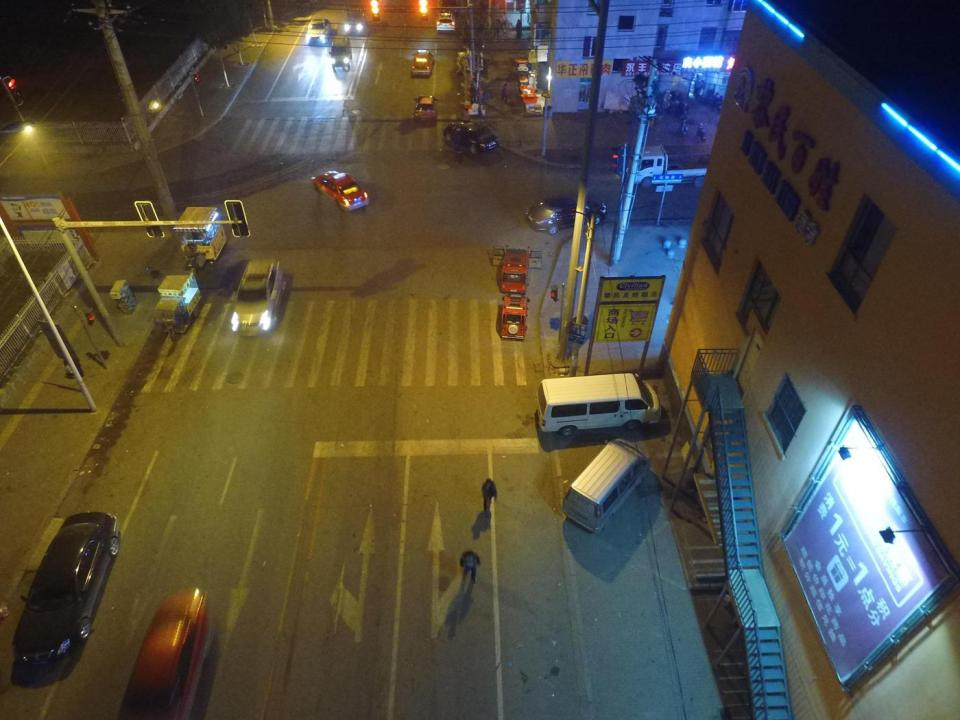car: (12, 513, 118, 668), (116, 590, 213, 719), (525, 197, 606, 234), (311, 170, 369, 210), (443, 121, 498, 153), (305, 18, 331, 44), (411, 50, 434, 76), (414, 96, 437, 119), (436, 10, 454, 33), (441, 0, 458, 16)
truck: (631, 143, 720, 191)
van: (562, 438, 650, 534), (538, 372, 661, 436), (232, 260, 283, 336), (330, 36, 352, 70), (345, 6, 365, 34)
